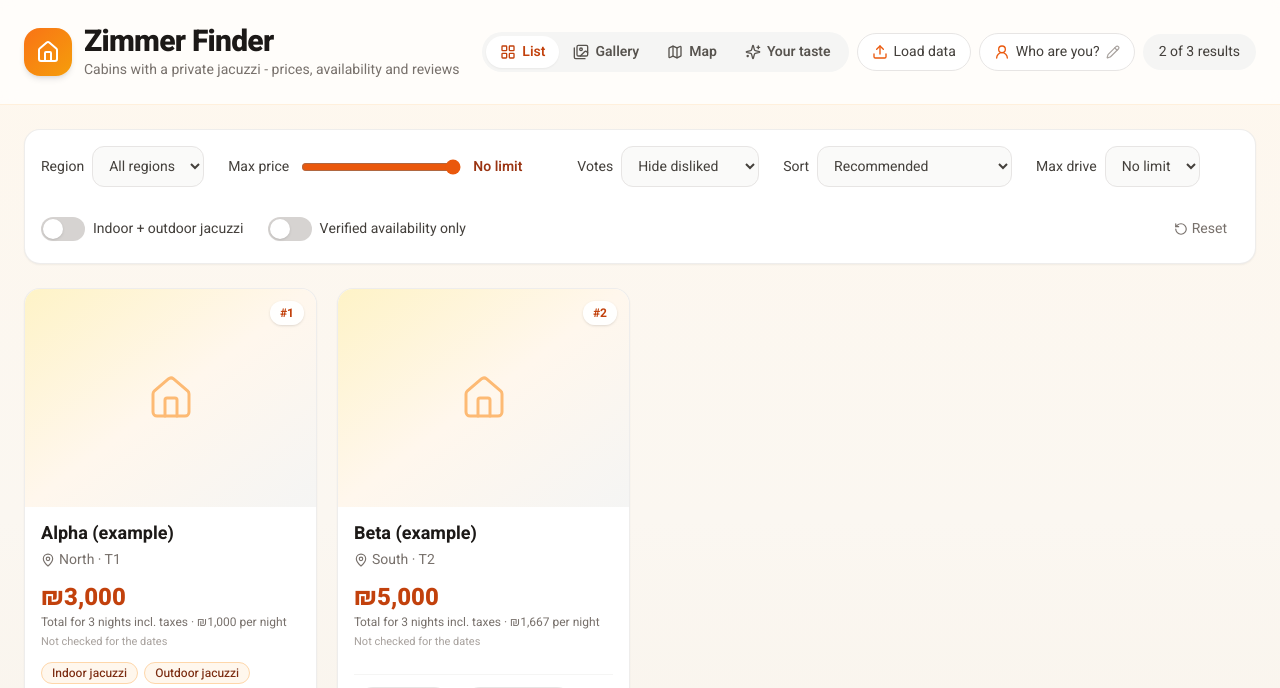
Test: App › filters to indoor + outdoor jacuzzi
The image size is (1280, 688).
Expected: the heading "Alpha (example)" is shown, [41,520,174,547]
Click the switch next to "Indoor + outdoor jacuzzi" at [63, 229], box [41,217,85,241]
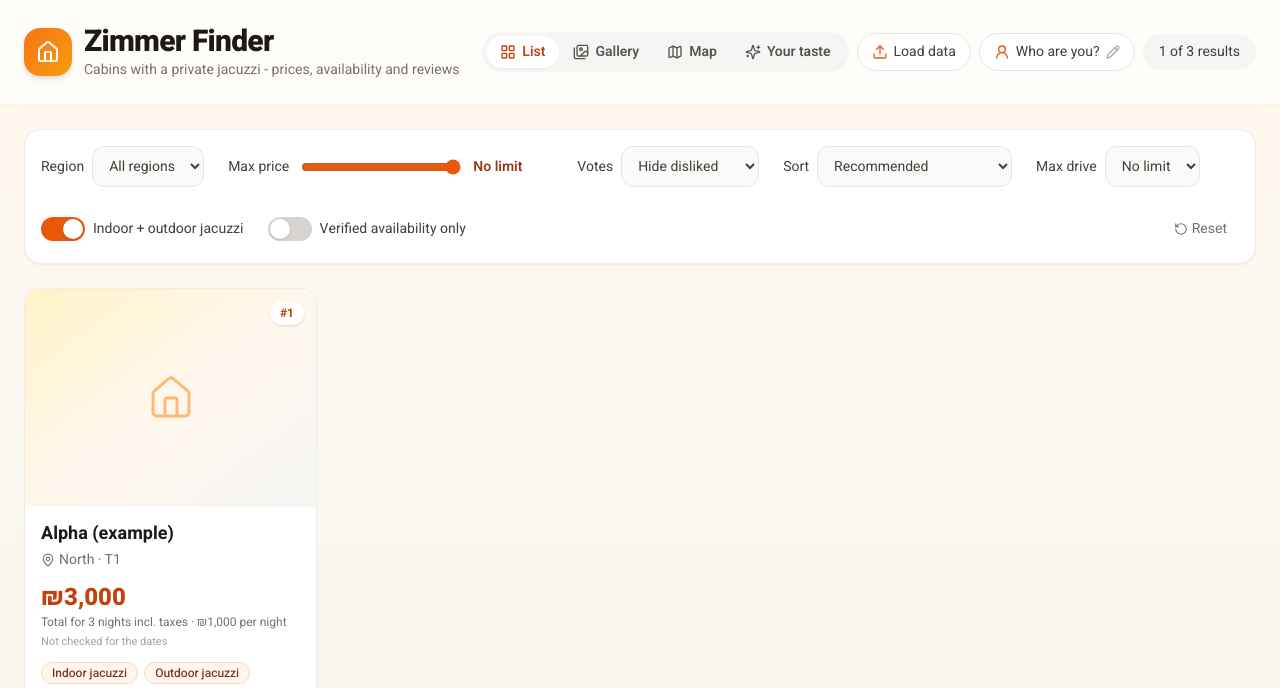
Now the heading "Beta (example)" is gone
